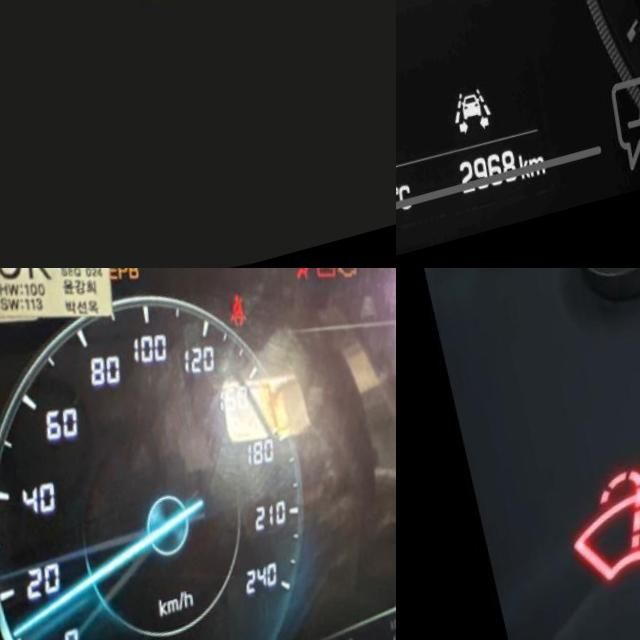Seat Belt: (218, 309, 246, 353)
Washer Fluid: (550, 461, 640, 596)
